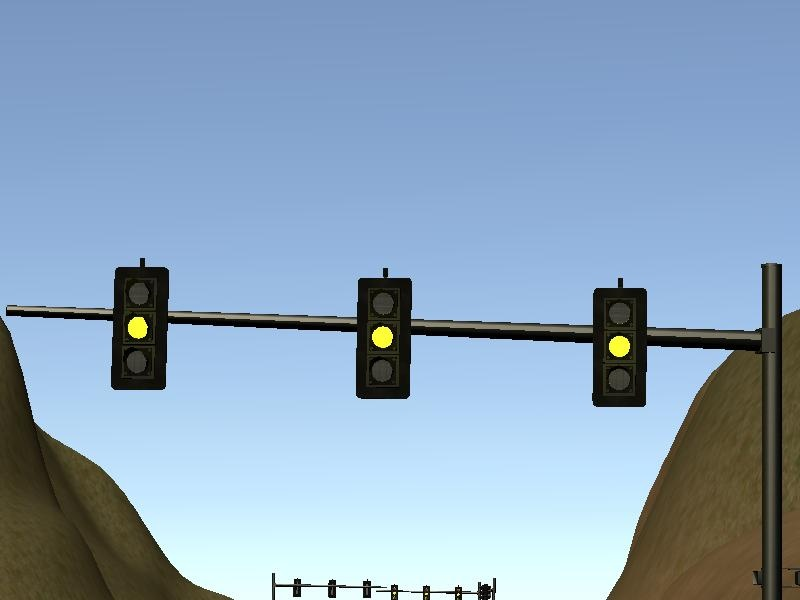YELLOW: (107, 263, 173, 395), (351, 269, 417, 401), (586, 281, 652, 413)
